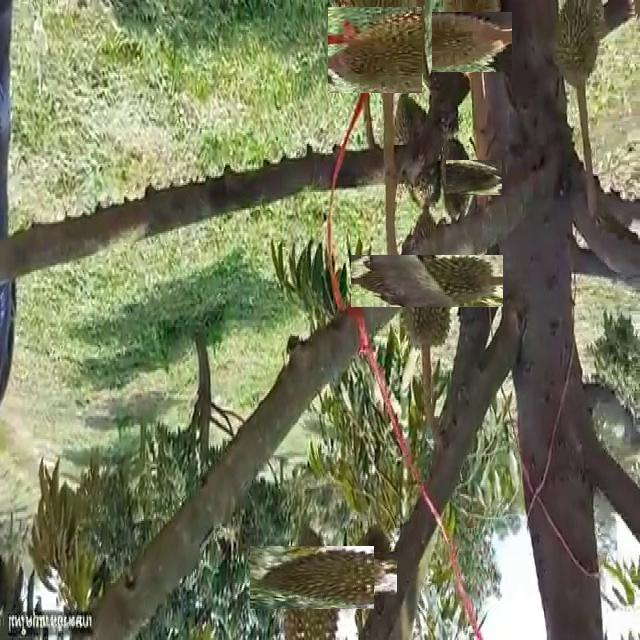durian: (375, 230, 478, 332), (264, 531, 358, 625), (330, 4, 420, 95), (391, 92, 446, 210), (436, 7, 507, 77), (552, 2, 606, 91), (326, 543, 388, 605), (427, 147, 489, 208)
